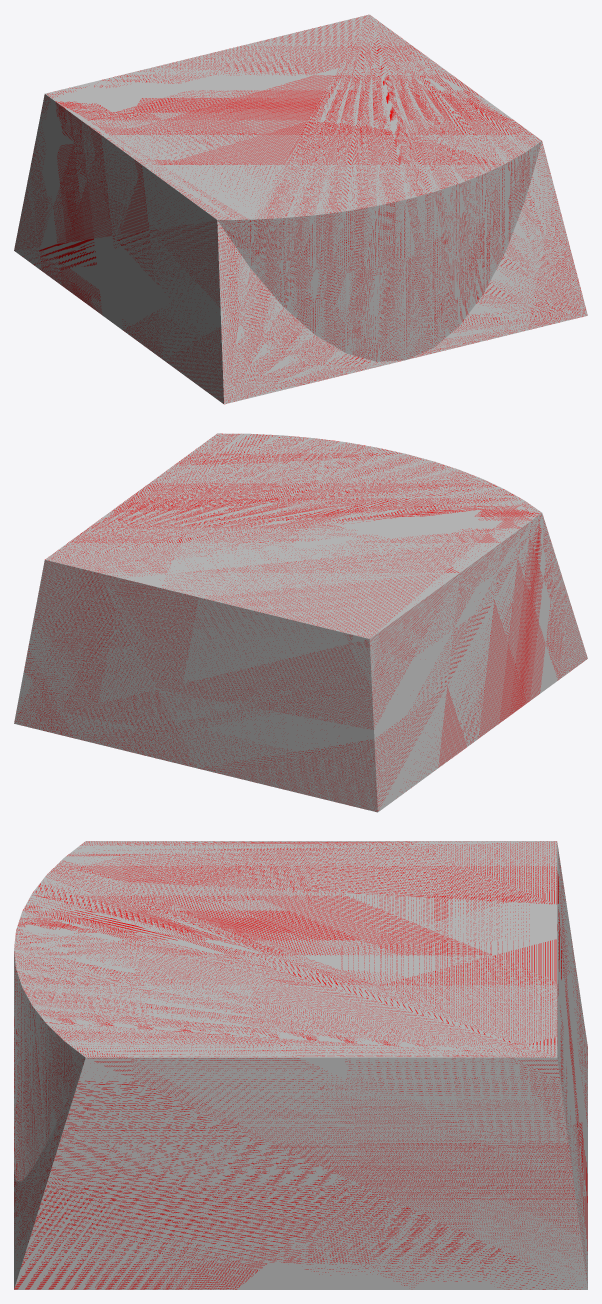
Rendered from original-35.obj.
3 views of the same model, one above another, from view 1: azimuth 30°, elevation 25°; view 2: azimuth 150°, elevation 25°; view 3: azimuth 270°, elevation 25° (orthographic). The views are drawn at different scales.
Visible parts, largest first — view 1: Gray_Single_Keycap32/Gray_Single_Keycap/mesh8/mesh8-geometry#mes; view 2: Gray_Single_Keycap32/Gray_Single_Keycap/mesh8/mesh8-geometry#mes; view 3: Gray_Single_Keycap32/Gray_Single_Keycap/mesh8/mesh8-geometry#mes.
Part boxes in pixels (left/top/right/bottom): Gray_Single_Keycap32/Gray_Single_Keycap/mesh8/mesh8-geometry#mes: left=14, top=14, right=587, bottom=404; Gray_Single_Keycap32/Gray_Single_Keycap/mesh8/mesh8-geometry#mes: left=14, top=433, right=587, bottom=812; Gray_Single_Keycap32/Gray_Single_Keycap/mesh8/mesh8-geometry#mes: left=14, top=841, right=587, bottom=1289.
Size of the model in its own units: 0.0977 by 0.0412 by 0.0977.
